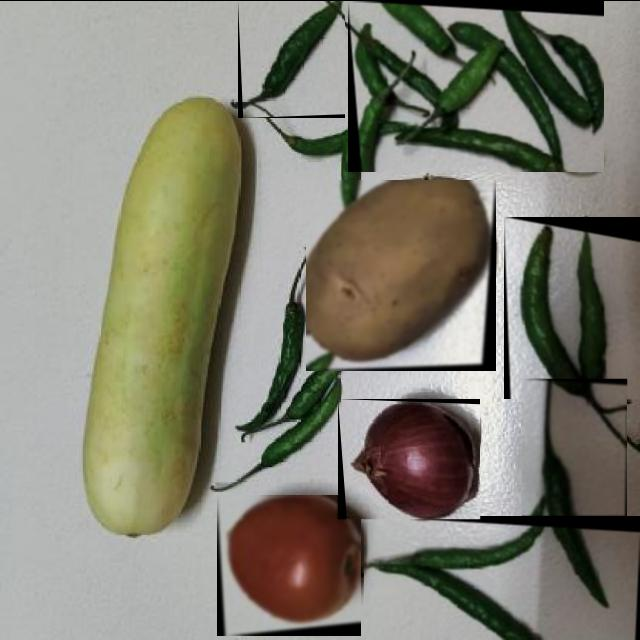Pepper: (348, 0, 604, 171), (364, 515, 640, 639), (504, 216, 640, 398), (522, 378, 627, 590), (238, 0, 345, 117)
onion: (338, 398, 480, 518)
potato: (306, 179, 496, 370)
tomato: (217, 494, 361, 635)
